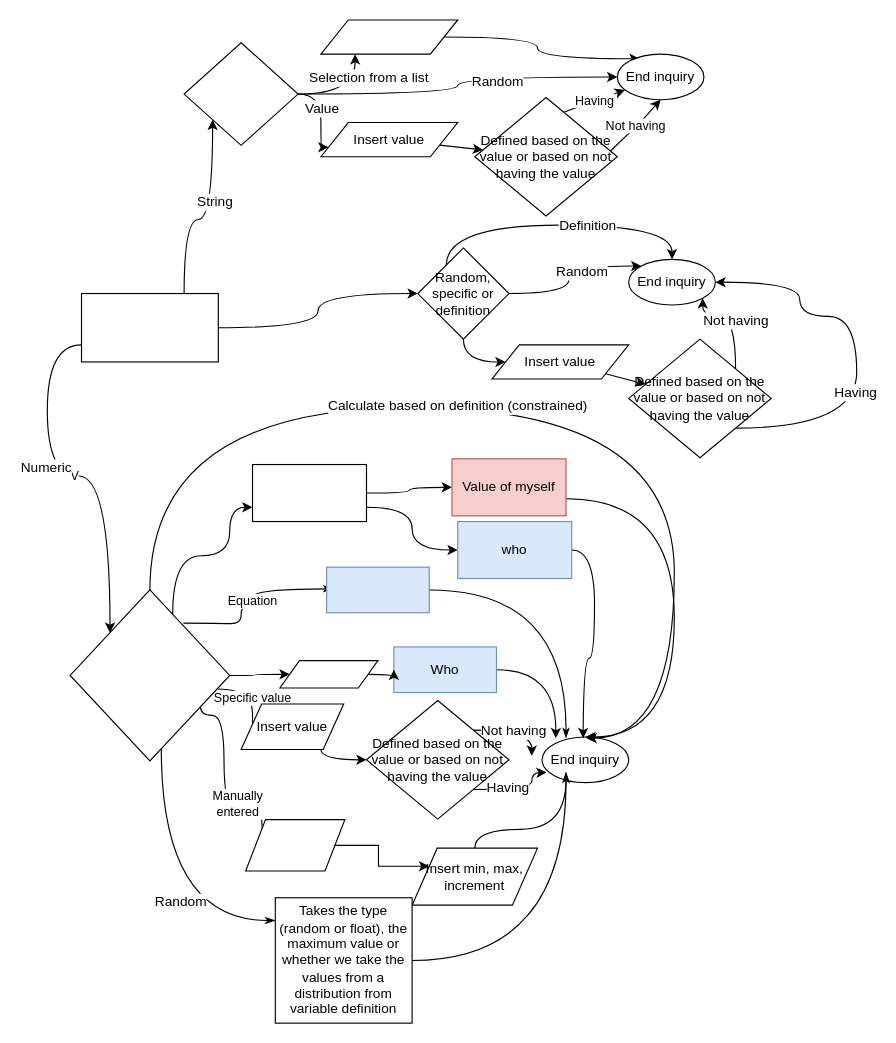
The diagram is 896 pixels wide and 1043 high, and some of its shapes have lost their labels. Each missing label, with the centre of its shape:
Based on the type of variable give different choices: (x=149, y=327)
Define a parameter name: (x=295, y=845)
Insert a list: (x=389, y=36)
Insert number: (x=328, y=673)
Insert the equation: (x=377, y=589)
Random, selection or value specific: (x=240, y=93)
Select the way to define the value: (x=149, y=675)
Value of other entity: (x=309, y=492)
